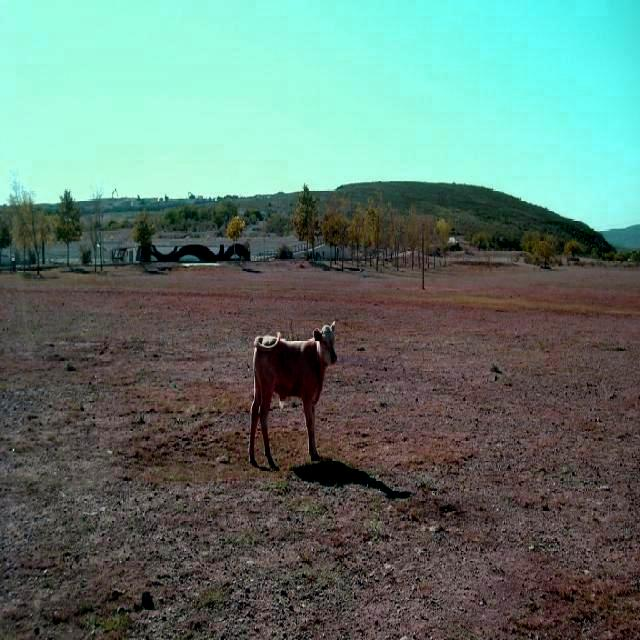COW: (249, 322, 338, 469)
